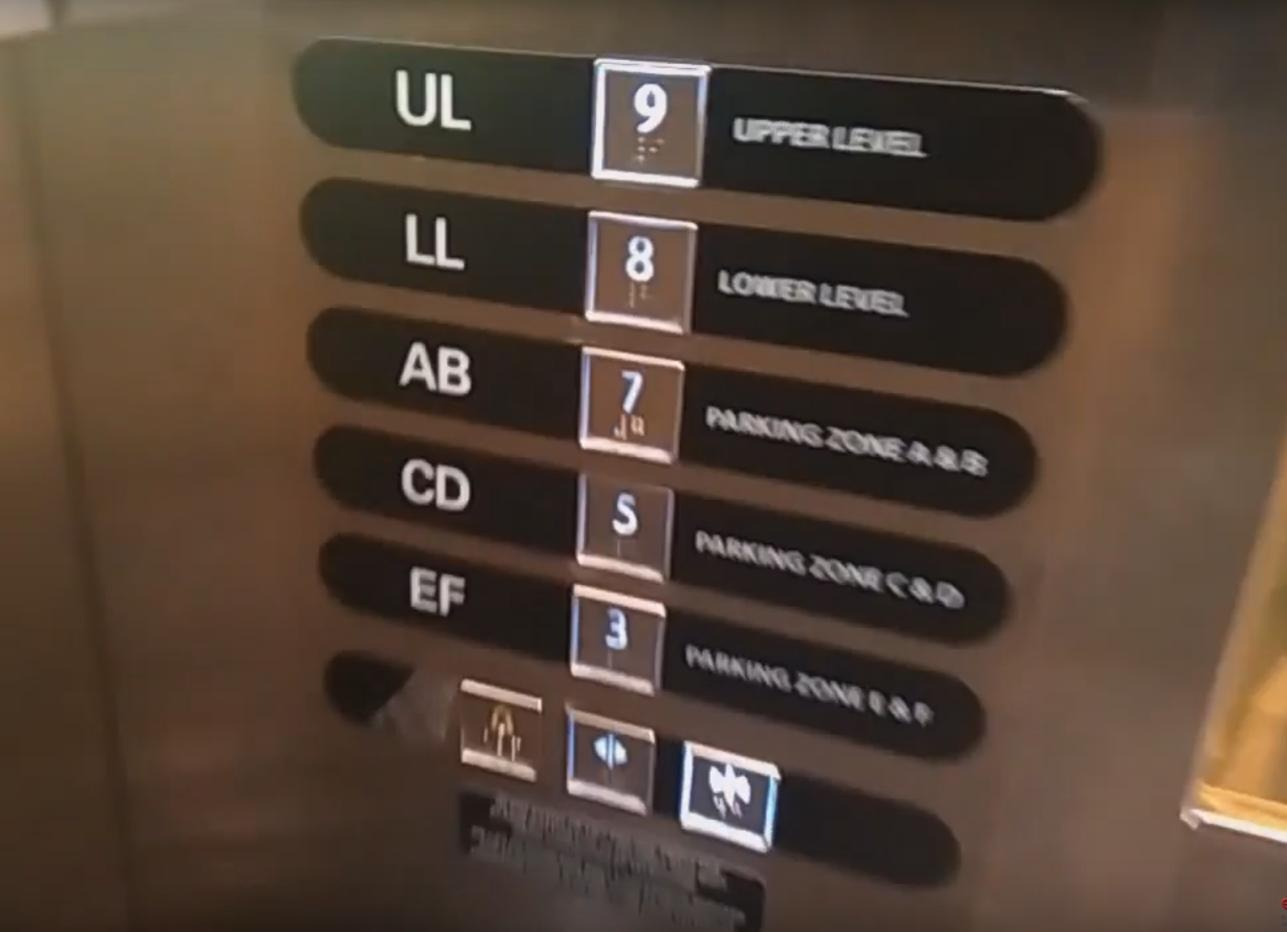3: (559, 577, 677, 703)
5: (566, 467, 685, 585)
7: (569, 341, 690, 472)
8: (577, 203, 705, 339)
9: (586, 53, 709, 194)
alarm: (447, 674, 555, 792)
close: (669, 727, 790, 854)
open: (555, 699, 664, 821)
